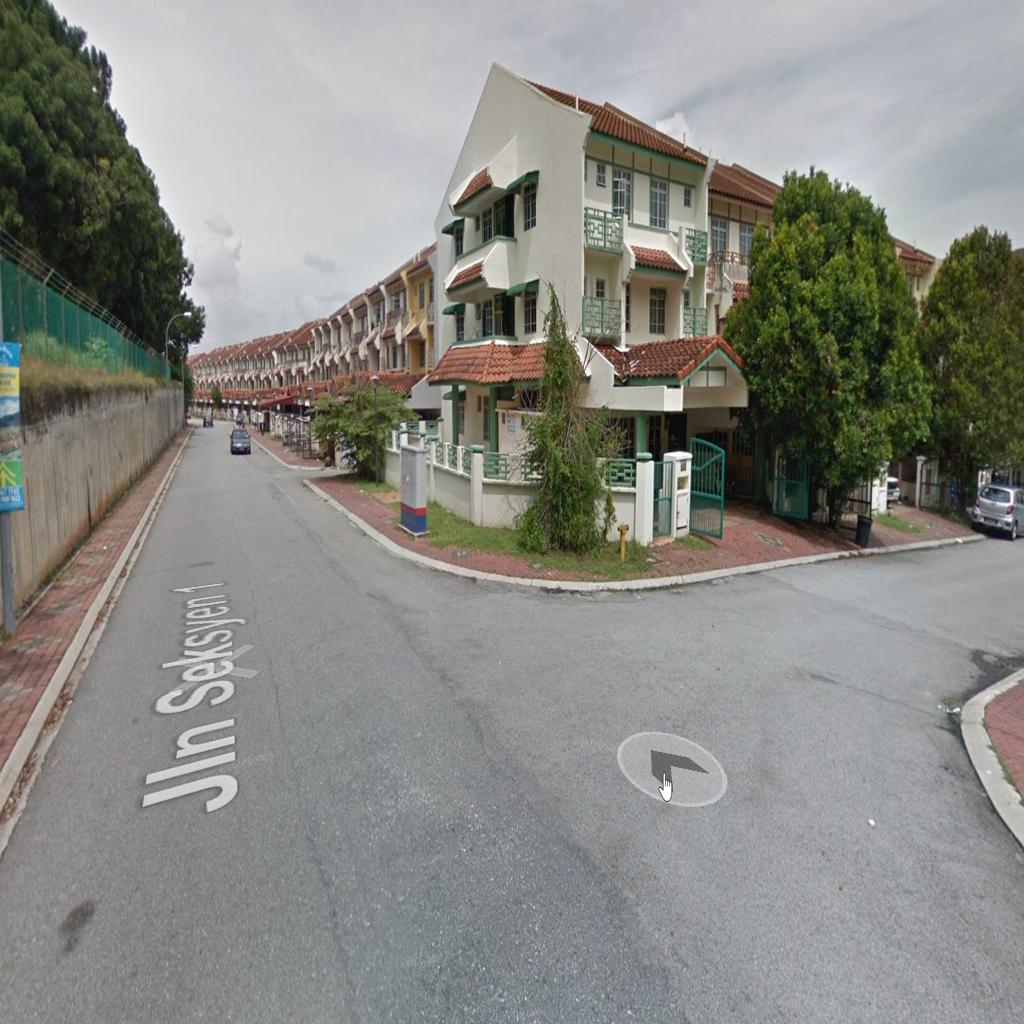Junction: (505, 508, 1017, 833)
